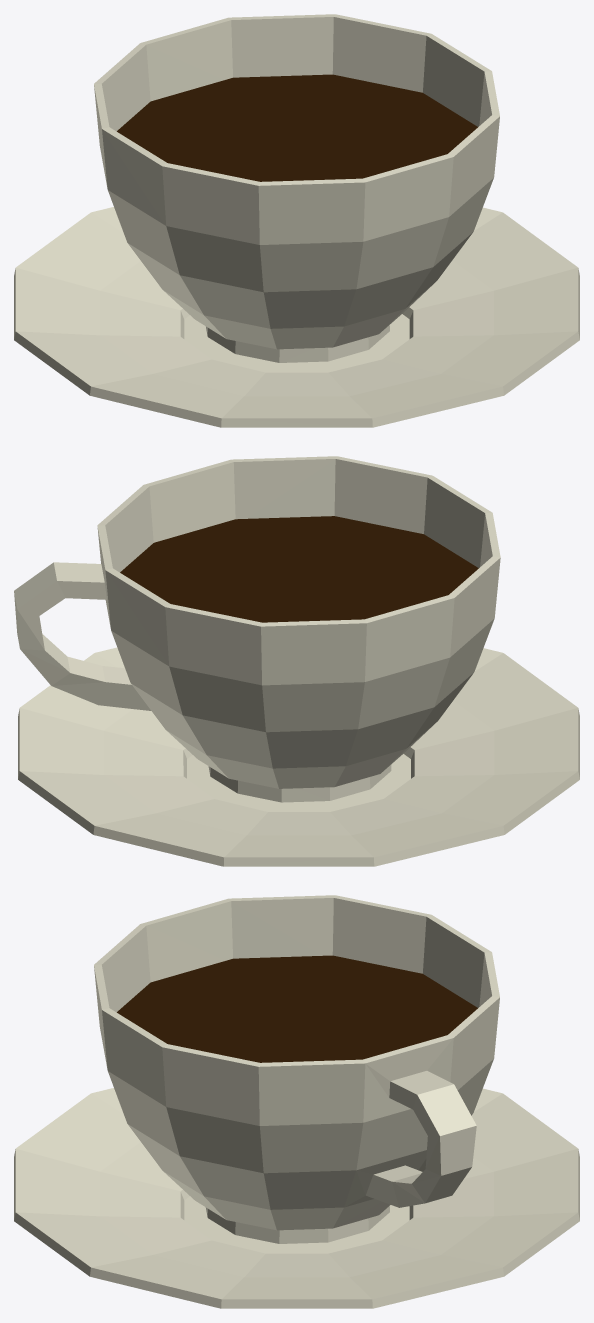
Rendered from latte.glb.
3 renders of one model, top to bottom at view 1: azimuth 30°, elevation 25°; view 2: azimuth 150°, elevation 25°; view 3: azimuth 270°, elevation 25°, orthographic.
Parts seen in each view (by area): view 1: Node; view 2: Node; view 3: Node.
Part boxes in pixels (x1=…): Node: x1=14, y1=14, x2=579, y2=427; Node: x1=14, y1=456, x2=579, y2=866; Node: x1=14, y1=895, x2=579, y2=1308.
Bounding box in the file's own units: 3.47 × 1.64 × 3.47.
